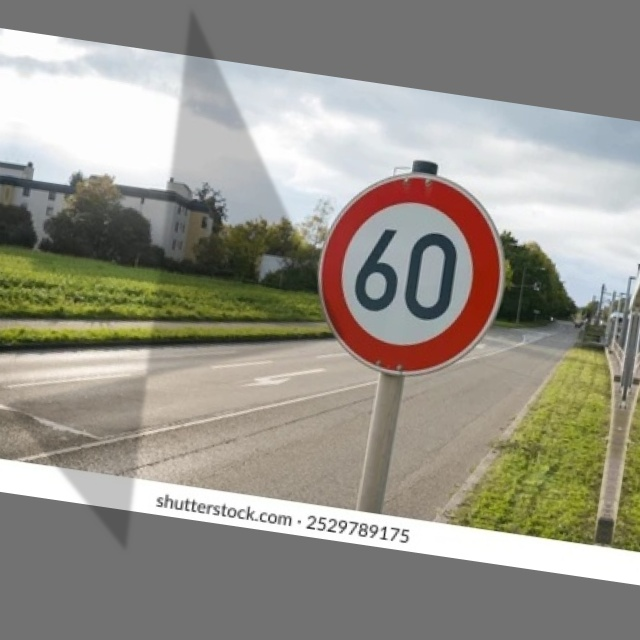Speed_Limit_60: (302, 161, 518, 384)
